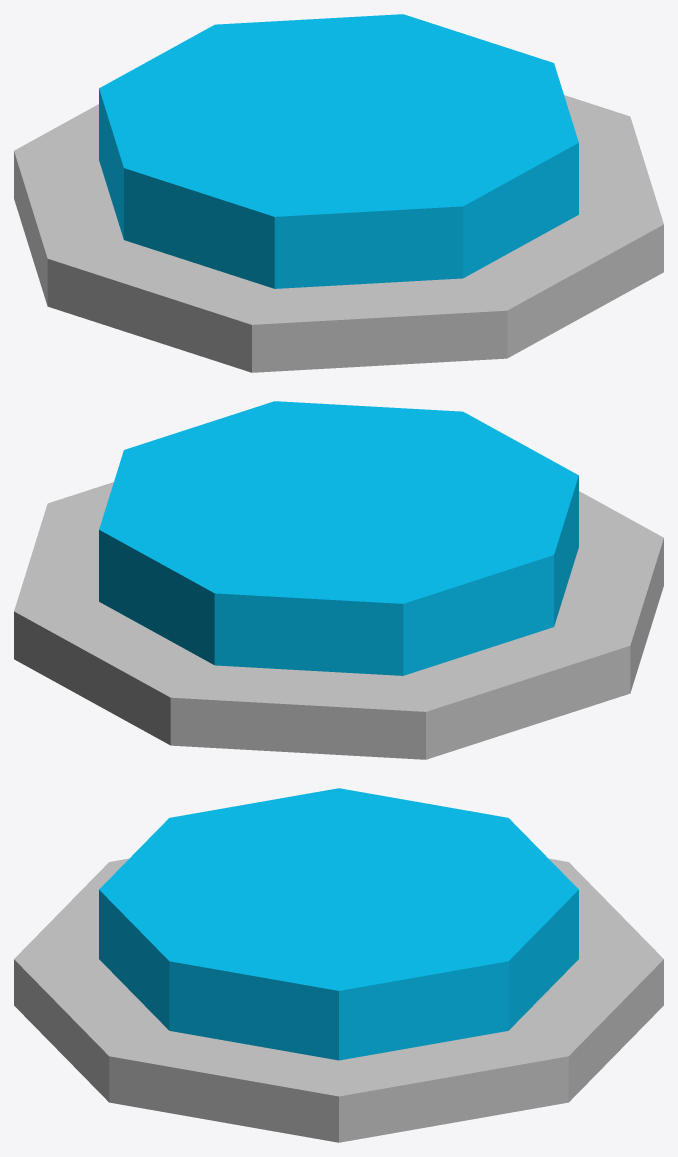
The model's file is Buton.obj.
3 views of the same model, one above another, from view 1: azimuth 30°, elevation 25°; view 2: azimuth 150°, elevation 25°; view 3: azimuth 270°, elevation 25° (orthographic). The views are drawn at different scales.
Parts seen in each view (by area): view 1: pCylinder1, pCylinder2; view 2: pCylinder1, pCylinder2; view 3: pCylinder1, pCylinder2.
Part boxes in pixels (box(x1,y1,x2,y2)): pCylinder1: box(99, 14, 578, 288); pCylinder2: box(14, 95, 663, 372); pCylinder1: box(99, 401, 578, 675); pCylinder2: box(14, 482, 663, 759); pCylinder1: box(99, 788, 578, 1060); pCylinder2: box(14, 858, 663, 1142).
Bounding box in the file's own units: 2 × 0.3934 × 2.
